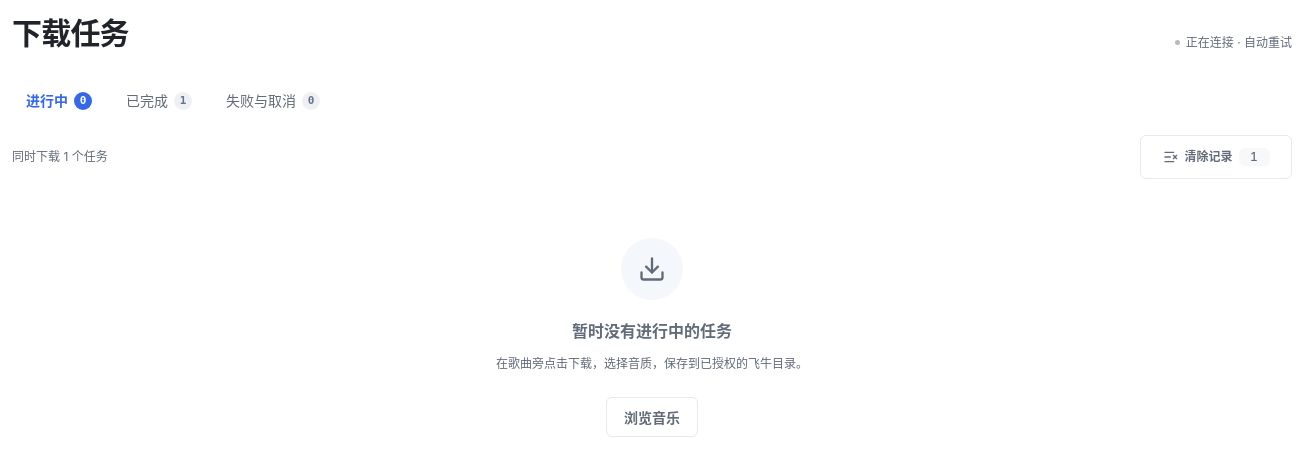
Test: 下载页请求音质与文件格式 › FLAC 请求、2MB MP3 完成及素材警告并存，不冒称无损文件或失败
The image size is (1304, 454).
Click the tab "已完成 1": (159, 100) [112,82,206,118]
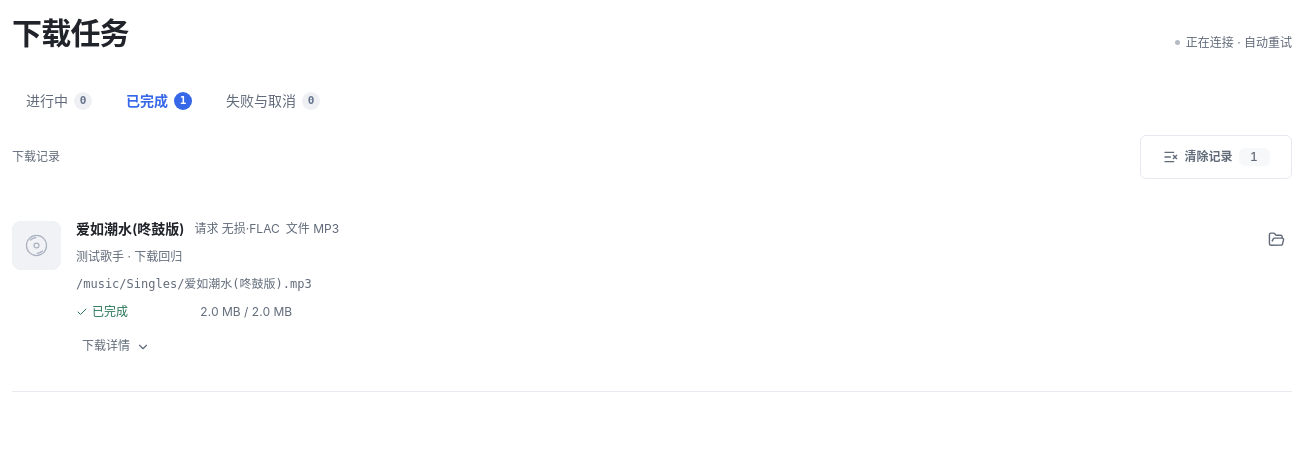
Expected: the text "请求 无损·FLAC" is shown, [194,219,280,237]
Expected: the text "文件 MP3" is shown, [286,220,339,235]
Expected: the text "已完成" is shown, [76,303,128,318]
Click the heading "下载详情": (116, 346) [82,338,150,353]
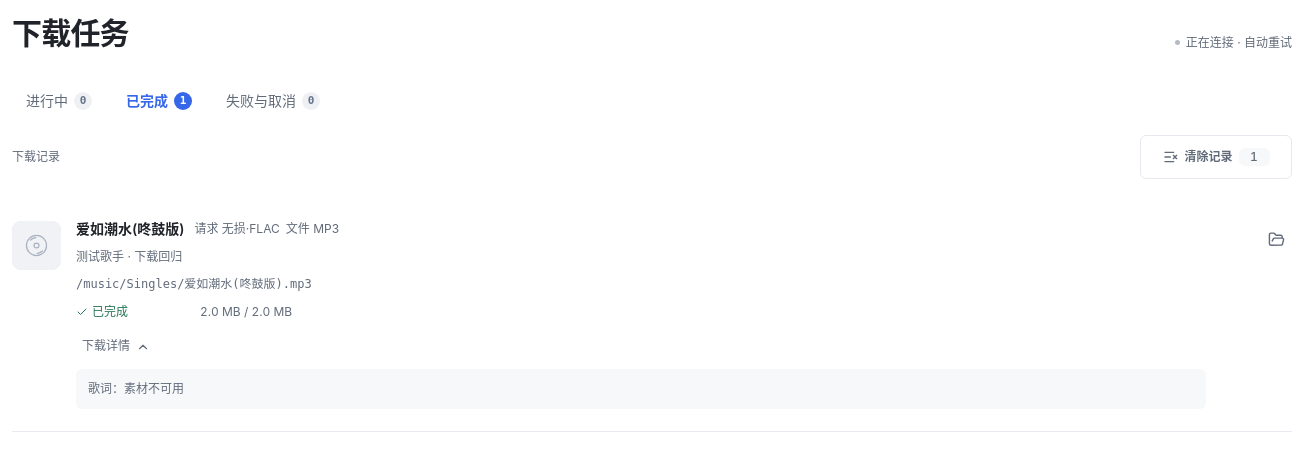
Expected: the text "2.0 MB / 2.0 MB" is shown, [200,303,292,318]
Expected: the text "歌词：素材不可用" is shown, [76,368,1206,408]
